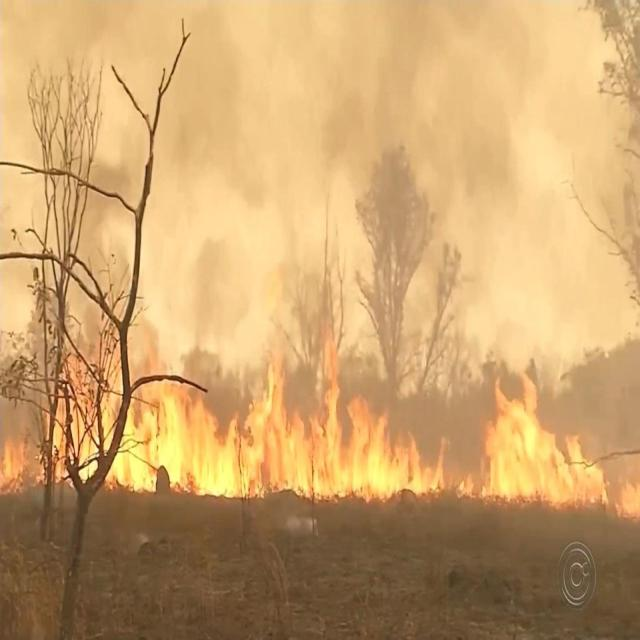Fire: (41, 352, 448, 494), (462, 388, 594, 508), (3, 427, 31, 493)
